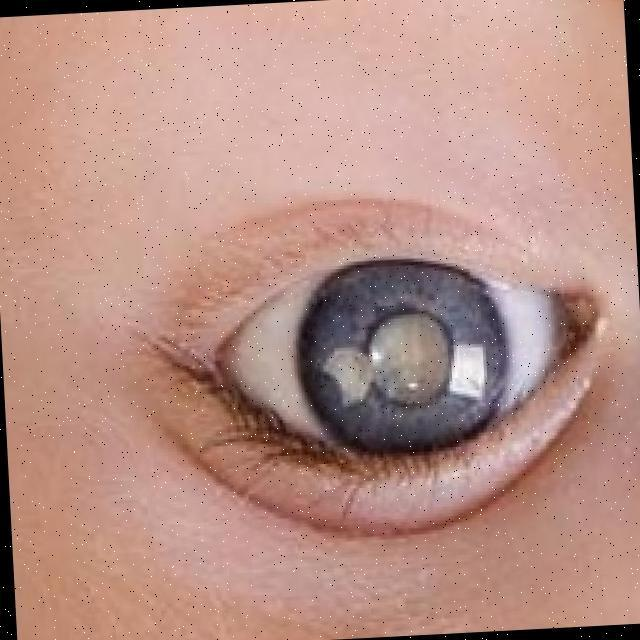Cataract: (272, 256, 528, 448)
